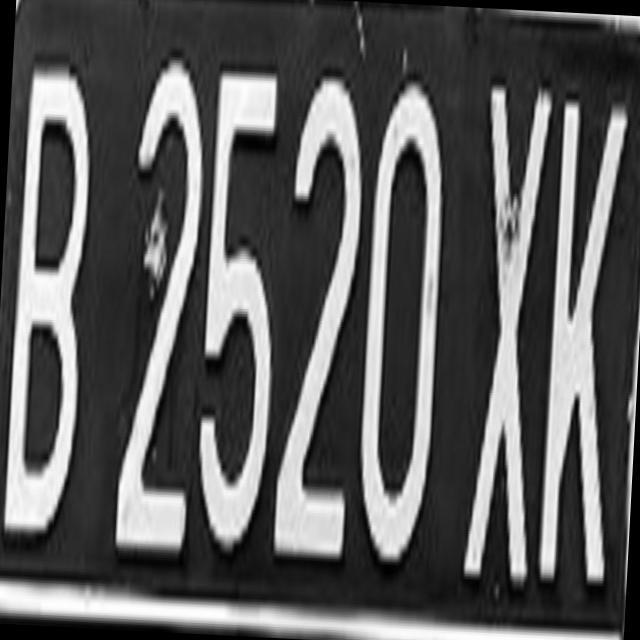0: (359, 77, 453, 566)
2: (115, 52, 212, 554), (280, 70, 376, 566)
5: (194, 66, 295, 546)
B: (0, 44, 120, 559)
K: (530, 92, 631, 597)
X: (456, 71, 551, 598)
